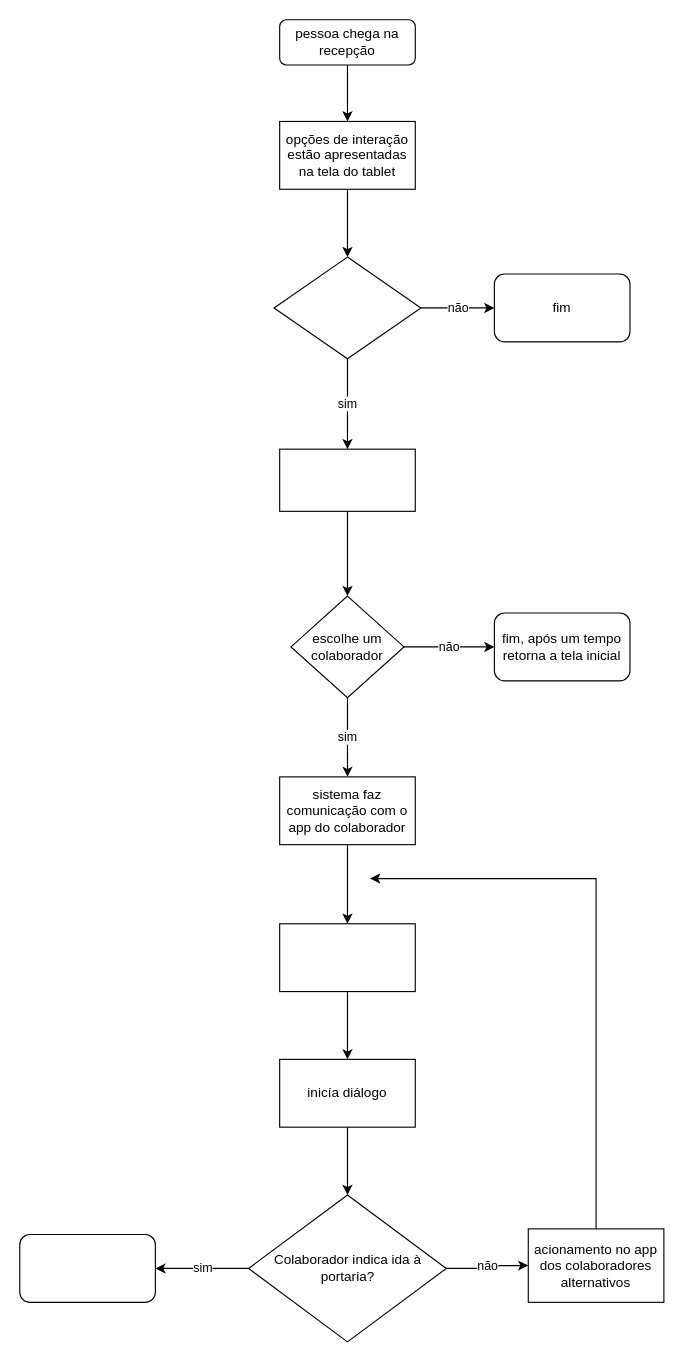
Some shapes in this 684 by 1362 pixel diagram are drawn without their labels. The shapes that lost their labels are listed below. From the top down, each one's centre as x and y in pixels, then its label:
At (x=347, y=307): "escolhe uma opção?".
At (x=347, y=479): "Escolha da opção de entrega, reunião agendada ou outros".
At (x=347, y=957): "abertura do chat para notificação".
At (x=87, y=1267): "Secretária exibe mensagem e retorna à tela inícial".
